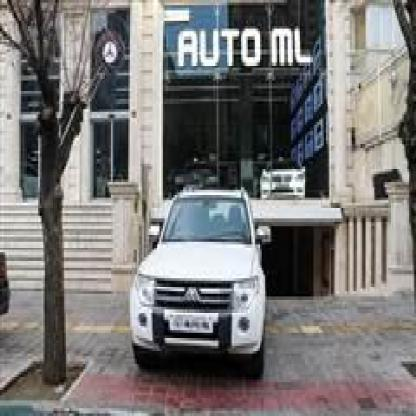Car: (126, 184, 268, 380), (252, 158, 309, 202), (165, 164, 222, 198)
